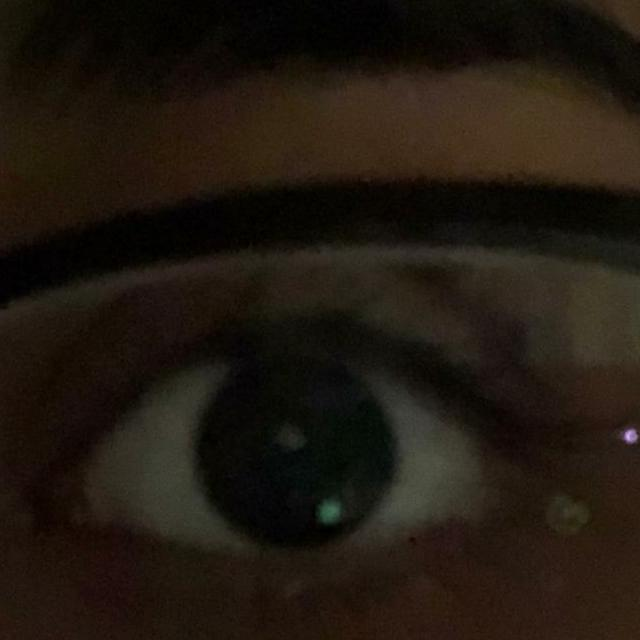eye: (90, 344, 493, 560)
iris: (196, 358, 398, 546)
